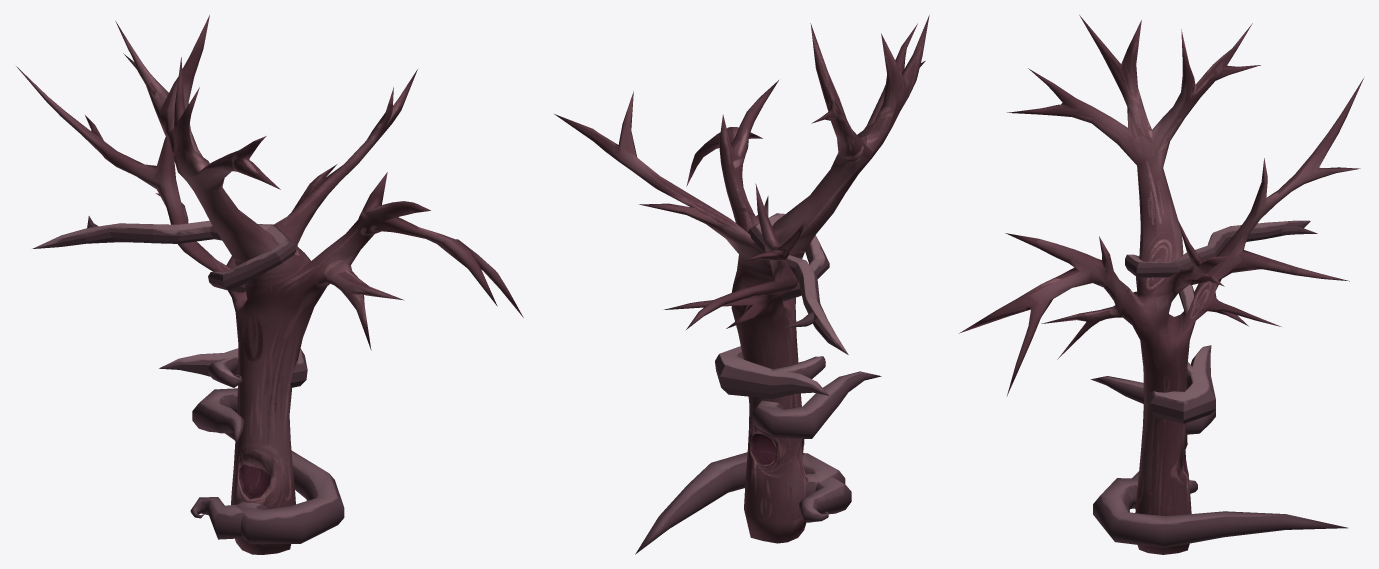
File: arbol.fbx
3 renders of one model, left to right at view 1: azimuth 30°, elevation 25°; view 2: azimuth 150°, elevation 25°; view 3: azimuth 270°, elevation 25°, orthographic. The views are drawn at different scales.
Parts seen in each view (by area): view 1: arbol, rama.002, rama, rama.003, rama.001, rama.004, rama.005; view 2: arbol, rama.002, rama.003, rama.004, rama, rama.001, rama.005; view 3: arbol, rama.002, rama, rama.004, rama.003.
Part boxes in pixels (<box>): arbol: <box>16,15,523,554</box>; rama.002: <box>225,433,344,544</box>; rama: <box>32,216,296,292</box>; rama.003: <box>192,388,244,443</box>; rama.001: <box>190,497,243,539</box>; rama.004: <box>159,348,307,387</box>; rama.005: <box>208,357,242,387</box>; arbol: <box>554,15,929,543</box>; rama.002: <box>635,452,845,554</box>; rama.003: <box>752,371,881,438</box>; rama.004: <box>715,346,829,398</box>; rama: <box>748,213,848,354</box>; rama.001: <box>799,476,851,522</box>; rama.005: <box>771,356,825,378</box>; arbol: <box>959,15,1363,554</box>; rama.002: <box>1093,478,1347,547</box>; rama: <box>1125,220,1317,315</box>; rama.004: <box>1146,345,1215,423</box>; rama.003: <box>1090,376,1215,434</box>.
Bounding box in the file's own units: 2933 × 4365 × 3236.
